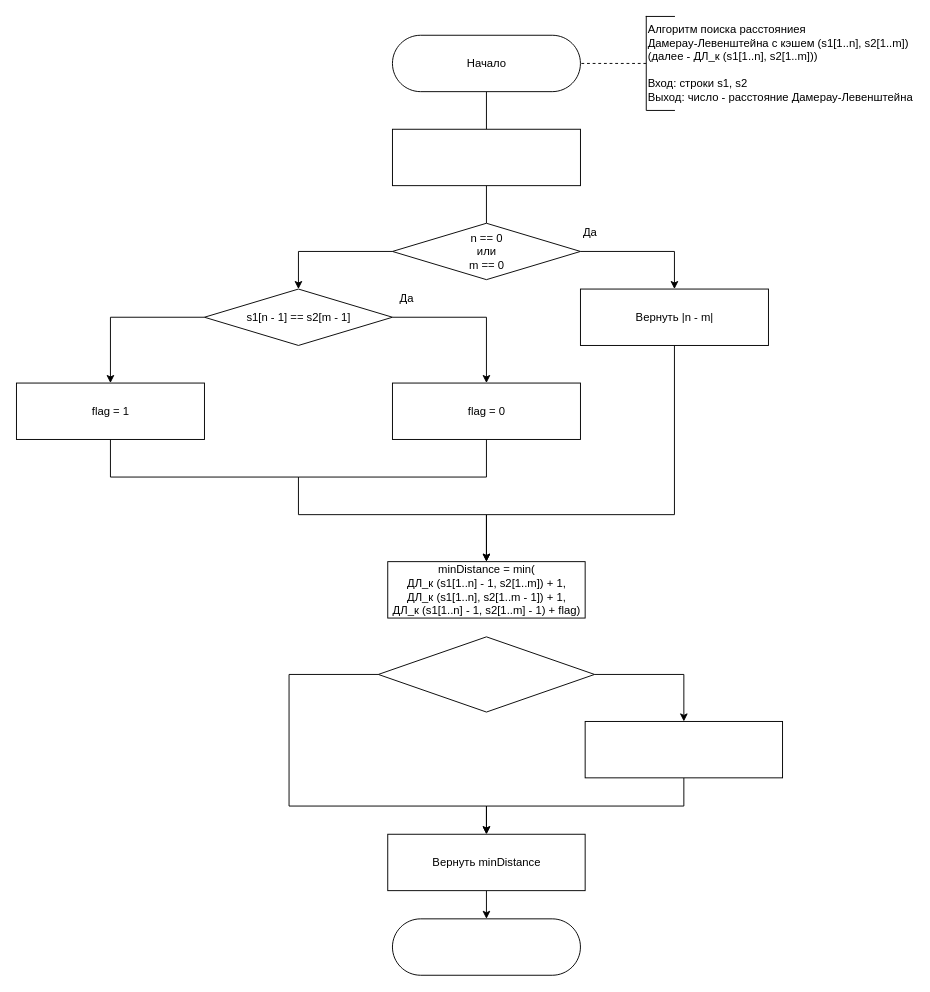
This 930x992 diagram has some shape labels left out. The shapes that lost their labels are listed below. From the top down, each one's centre as x and y in pixels, then its label:
point (486, 157): n = длина (s1) m = длина (s2)
point (486, 674): n > 1 && m > 1 && s1[n - 1] = s2[m - 2] && s1[n - 2] = s2[m - 1]
point (683, 749): minDistance = min(minDistance, ДЛ_к (s1[1..n - 2], s2[1..m - 2]) + 1)
point (486, 946): Конец
